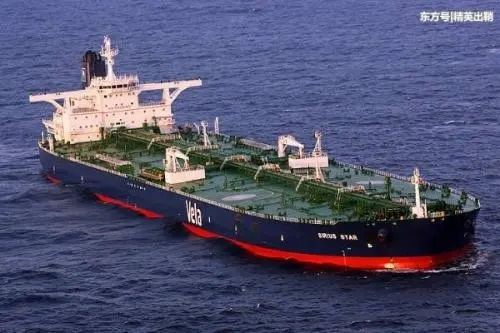Cargoship: (24, 34, 480, 271)
